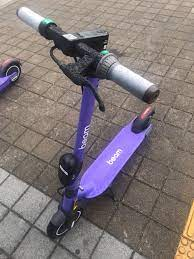kick_handler: (18, 5, 161, 100)
kick_neck: (66, 83, 98, 196)
kick_wheel: (49, 203, 83, 239), (2, 59, 21, 81)
